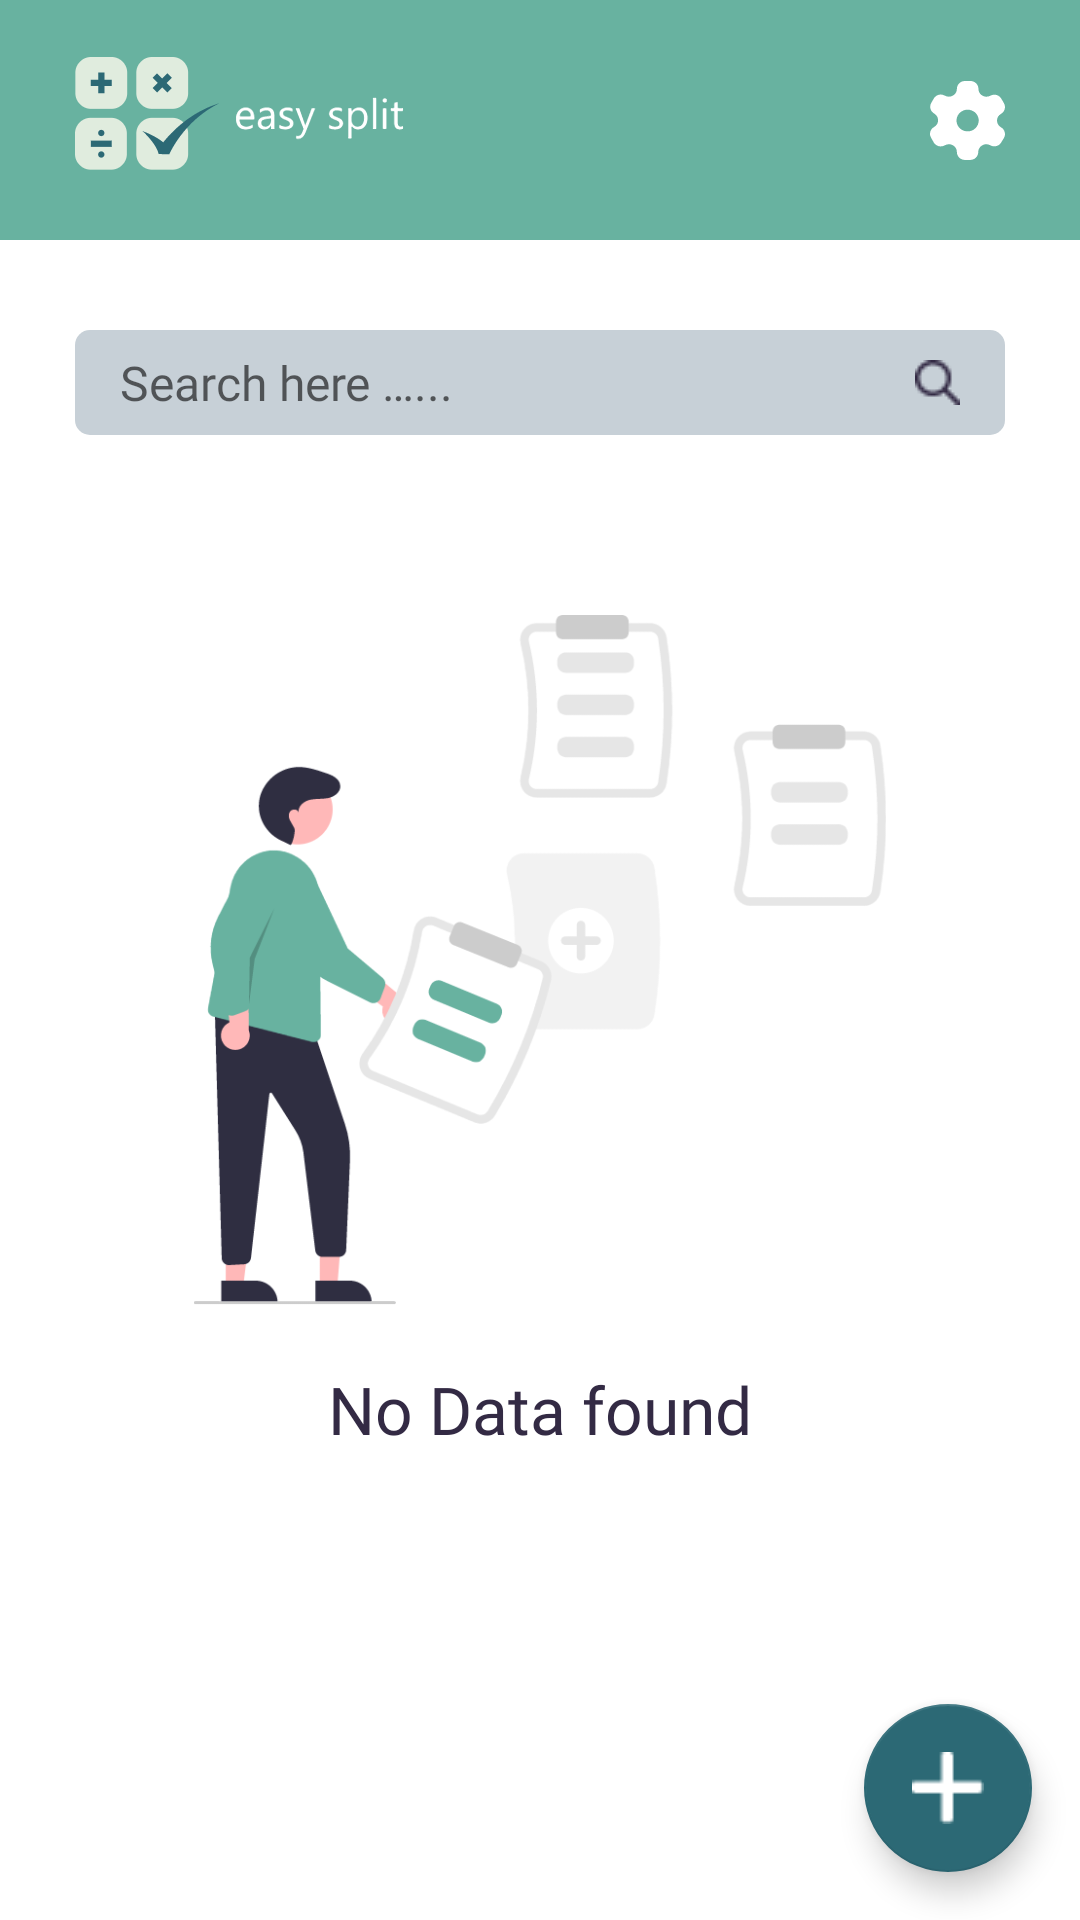

Icon click points for this 1080*1920 phone screenshot, format (x,y):
ig add store member: (948,1788)
ig setting: (967,120)
